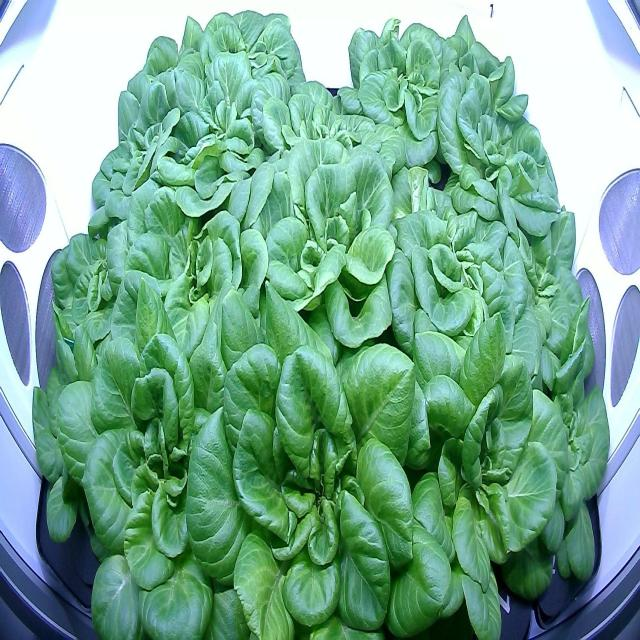Ready: (178, 276, 460, 635), (48, 286, 280, 637), (397, 321, 550, 635), (243, 121, 431, 375), (375, 191, 540, 415), (456, 197, 604, 394), (119, 158, 277, 331), (81, 67, 198, 268), (434, 63, 560, 236), (330, 2, 456, 166), (164, 48, 278, 224), (194, 0, 310, 139), (111, 0, 212, 154), (429, 0, 531, 136)
young: (487, 340, 618, 622), (17, 324, 152, 563), (250, 53, 410, 208), (29, 210, 159, 388)
